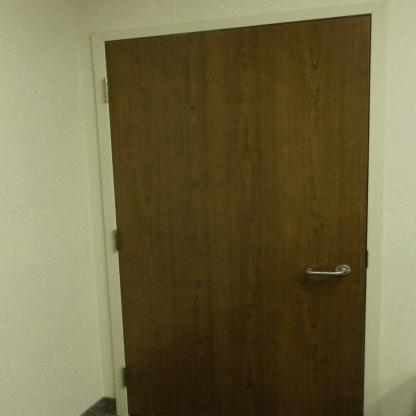door: (100, 38, 363, 406)
hinged: (112, 229, 124, 254), (101, 77, 112, 104), (120, 368, 132, 388)
lever: (304, 264, 350, 280)
